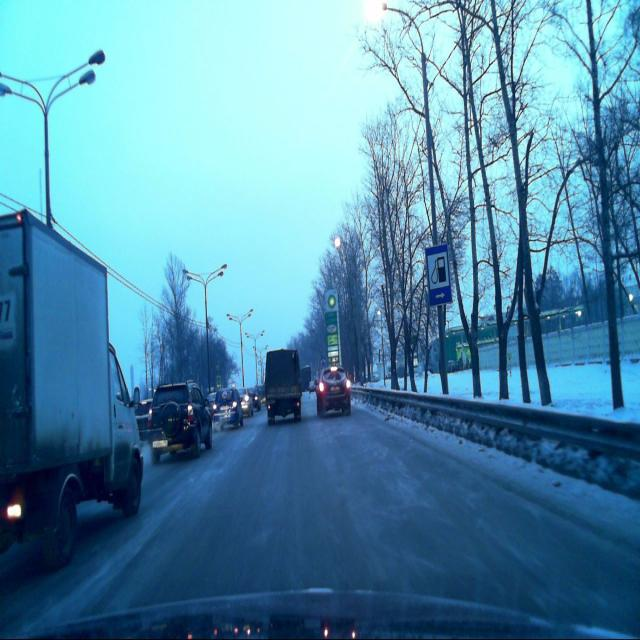road sign: (426, 244, 452, 305)
